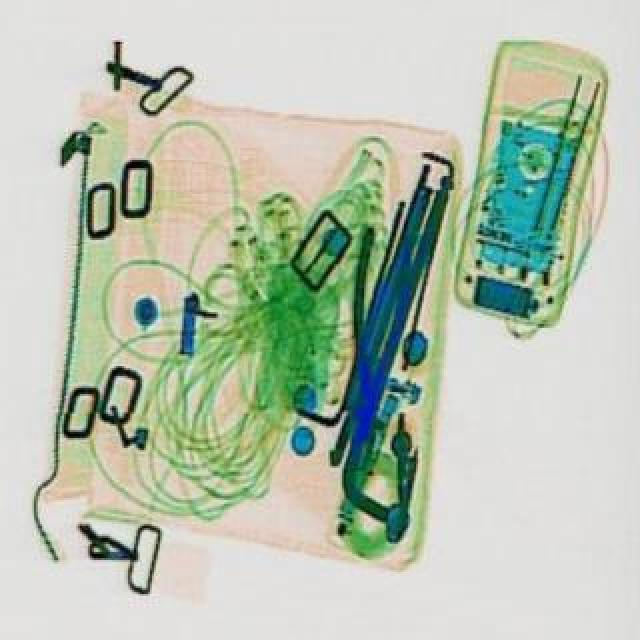wrench: (334, 224, 422, 438)
